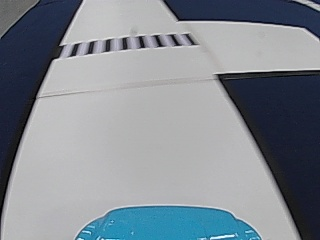CrossWalk: (59, 32, 197, 57)
